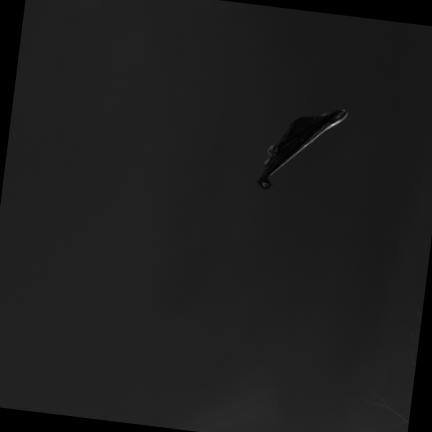Shahed: (258, 108, 347, 187)
